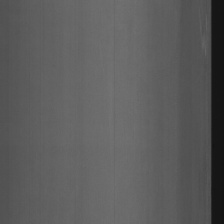silk_spot: (193, 8, 209, 66)
